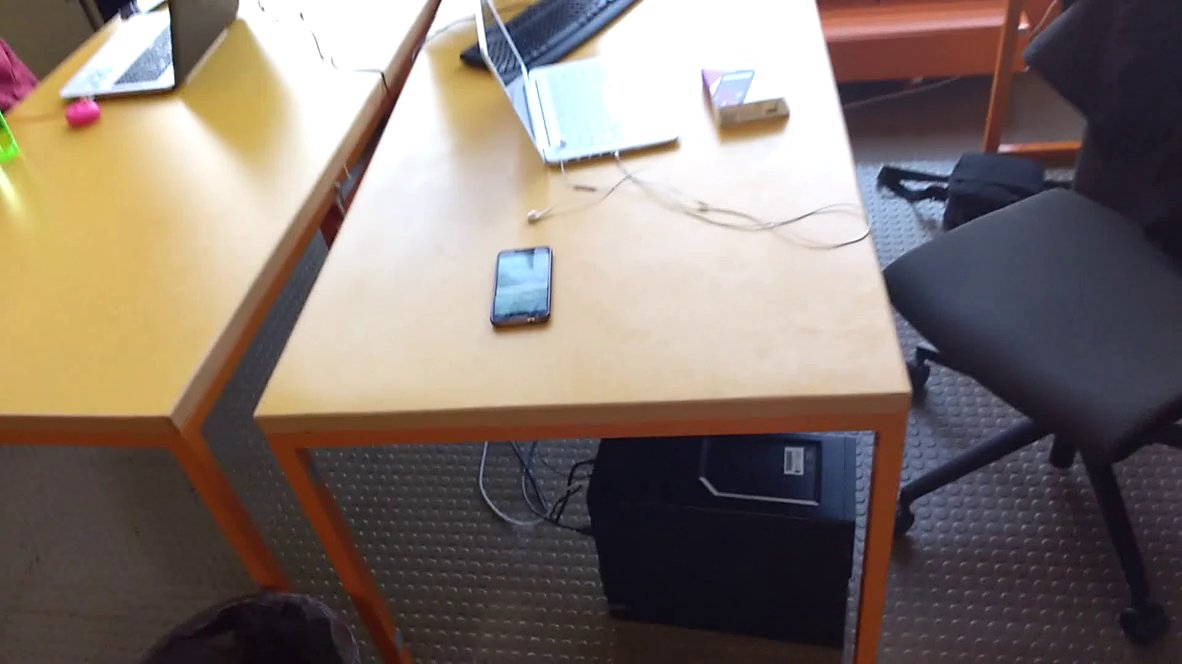laptop: (467, 1, 692, 178)
phone: (484, 243, 566, 332)
